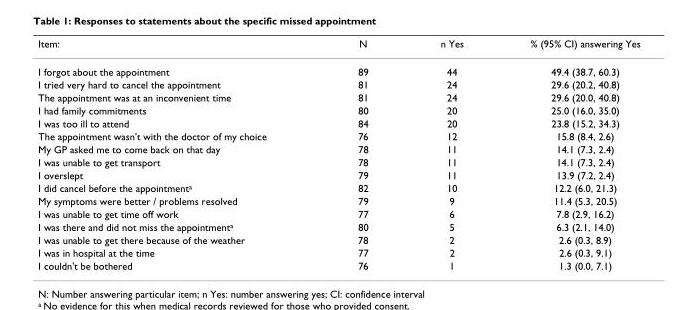table: (37, 37, 639, 271)
table column: (37, 37, 311, 271), (496, 37, 639, 271), (403, 37, 496, 271), (311, 37, 403, 271)
table column header: (37, 37, 639, 57)
table row: (37, 37, 639, 57), (37, 57, 639, 77), (37, 77, 639, 90), (37, 90, 639, 103), (37, 103, 639, 116), (37, 116, 639, 129), (37, 129, 639, 142), (37, 142, 639, 155), (37, 155, 639, 168), (37, 168, 639, 181), (37, 181, 639, 194), (37, 206, 639, 219), (37, 219, 639, 232), (37, 232, 639, 245), (37, 245, 639, 258), (37, 258, 639, 271), (37, 194, 639, 206)
